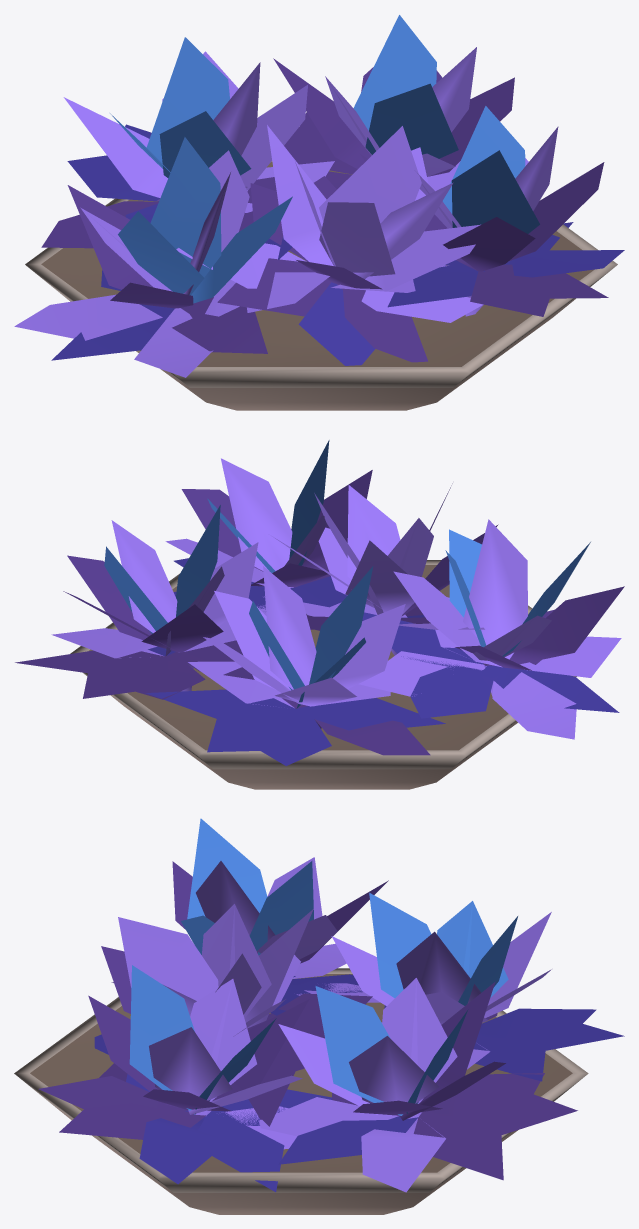
File: HWN20_FlowerPot_07.glb
3 renders of one model, top to bottom at view 1: azimuth 30°, elevation 25°; view 2: azimuth 150°, elevation 25°; view 3: azimuth 270°, elevation 25°, orthographic. The views are drawn at different scales.
Visible parts, largest first — view 1: HWN20_FlowerPot_07; view 2: HWN20_FlowerPot_07; view 3: HWN20_FlowerPot_07.
Part boxes in pixels (box(x1,y1,x2,y2)): HWN20_FlowerPot_07: box(14, 15, 624, 410); HWN20_FlowerPot_07: box(15, 440, 624, 789); HWN20_FlowerPot_07: box(14, 818, 624, 1214).
Size of what is drawn, in the model's own units: 0.3365 by 0.1399 by 0.3331.
1 material, 1 textured.
